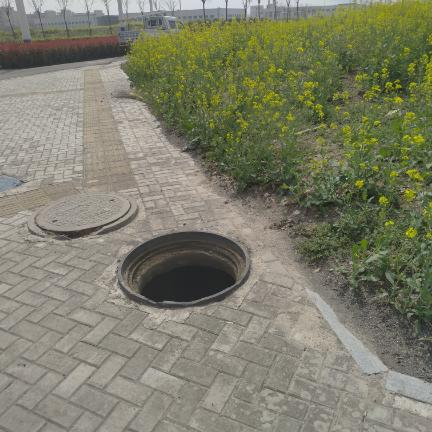wellcover: (107, 224, 265, 315), (31, 187, 140, 236)
